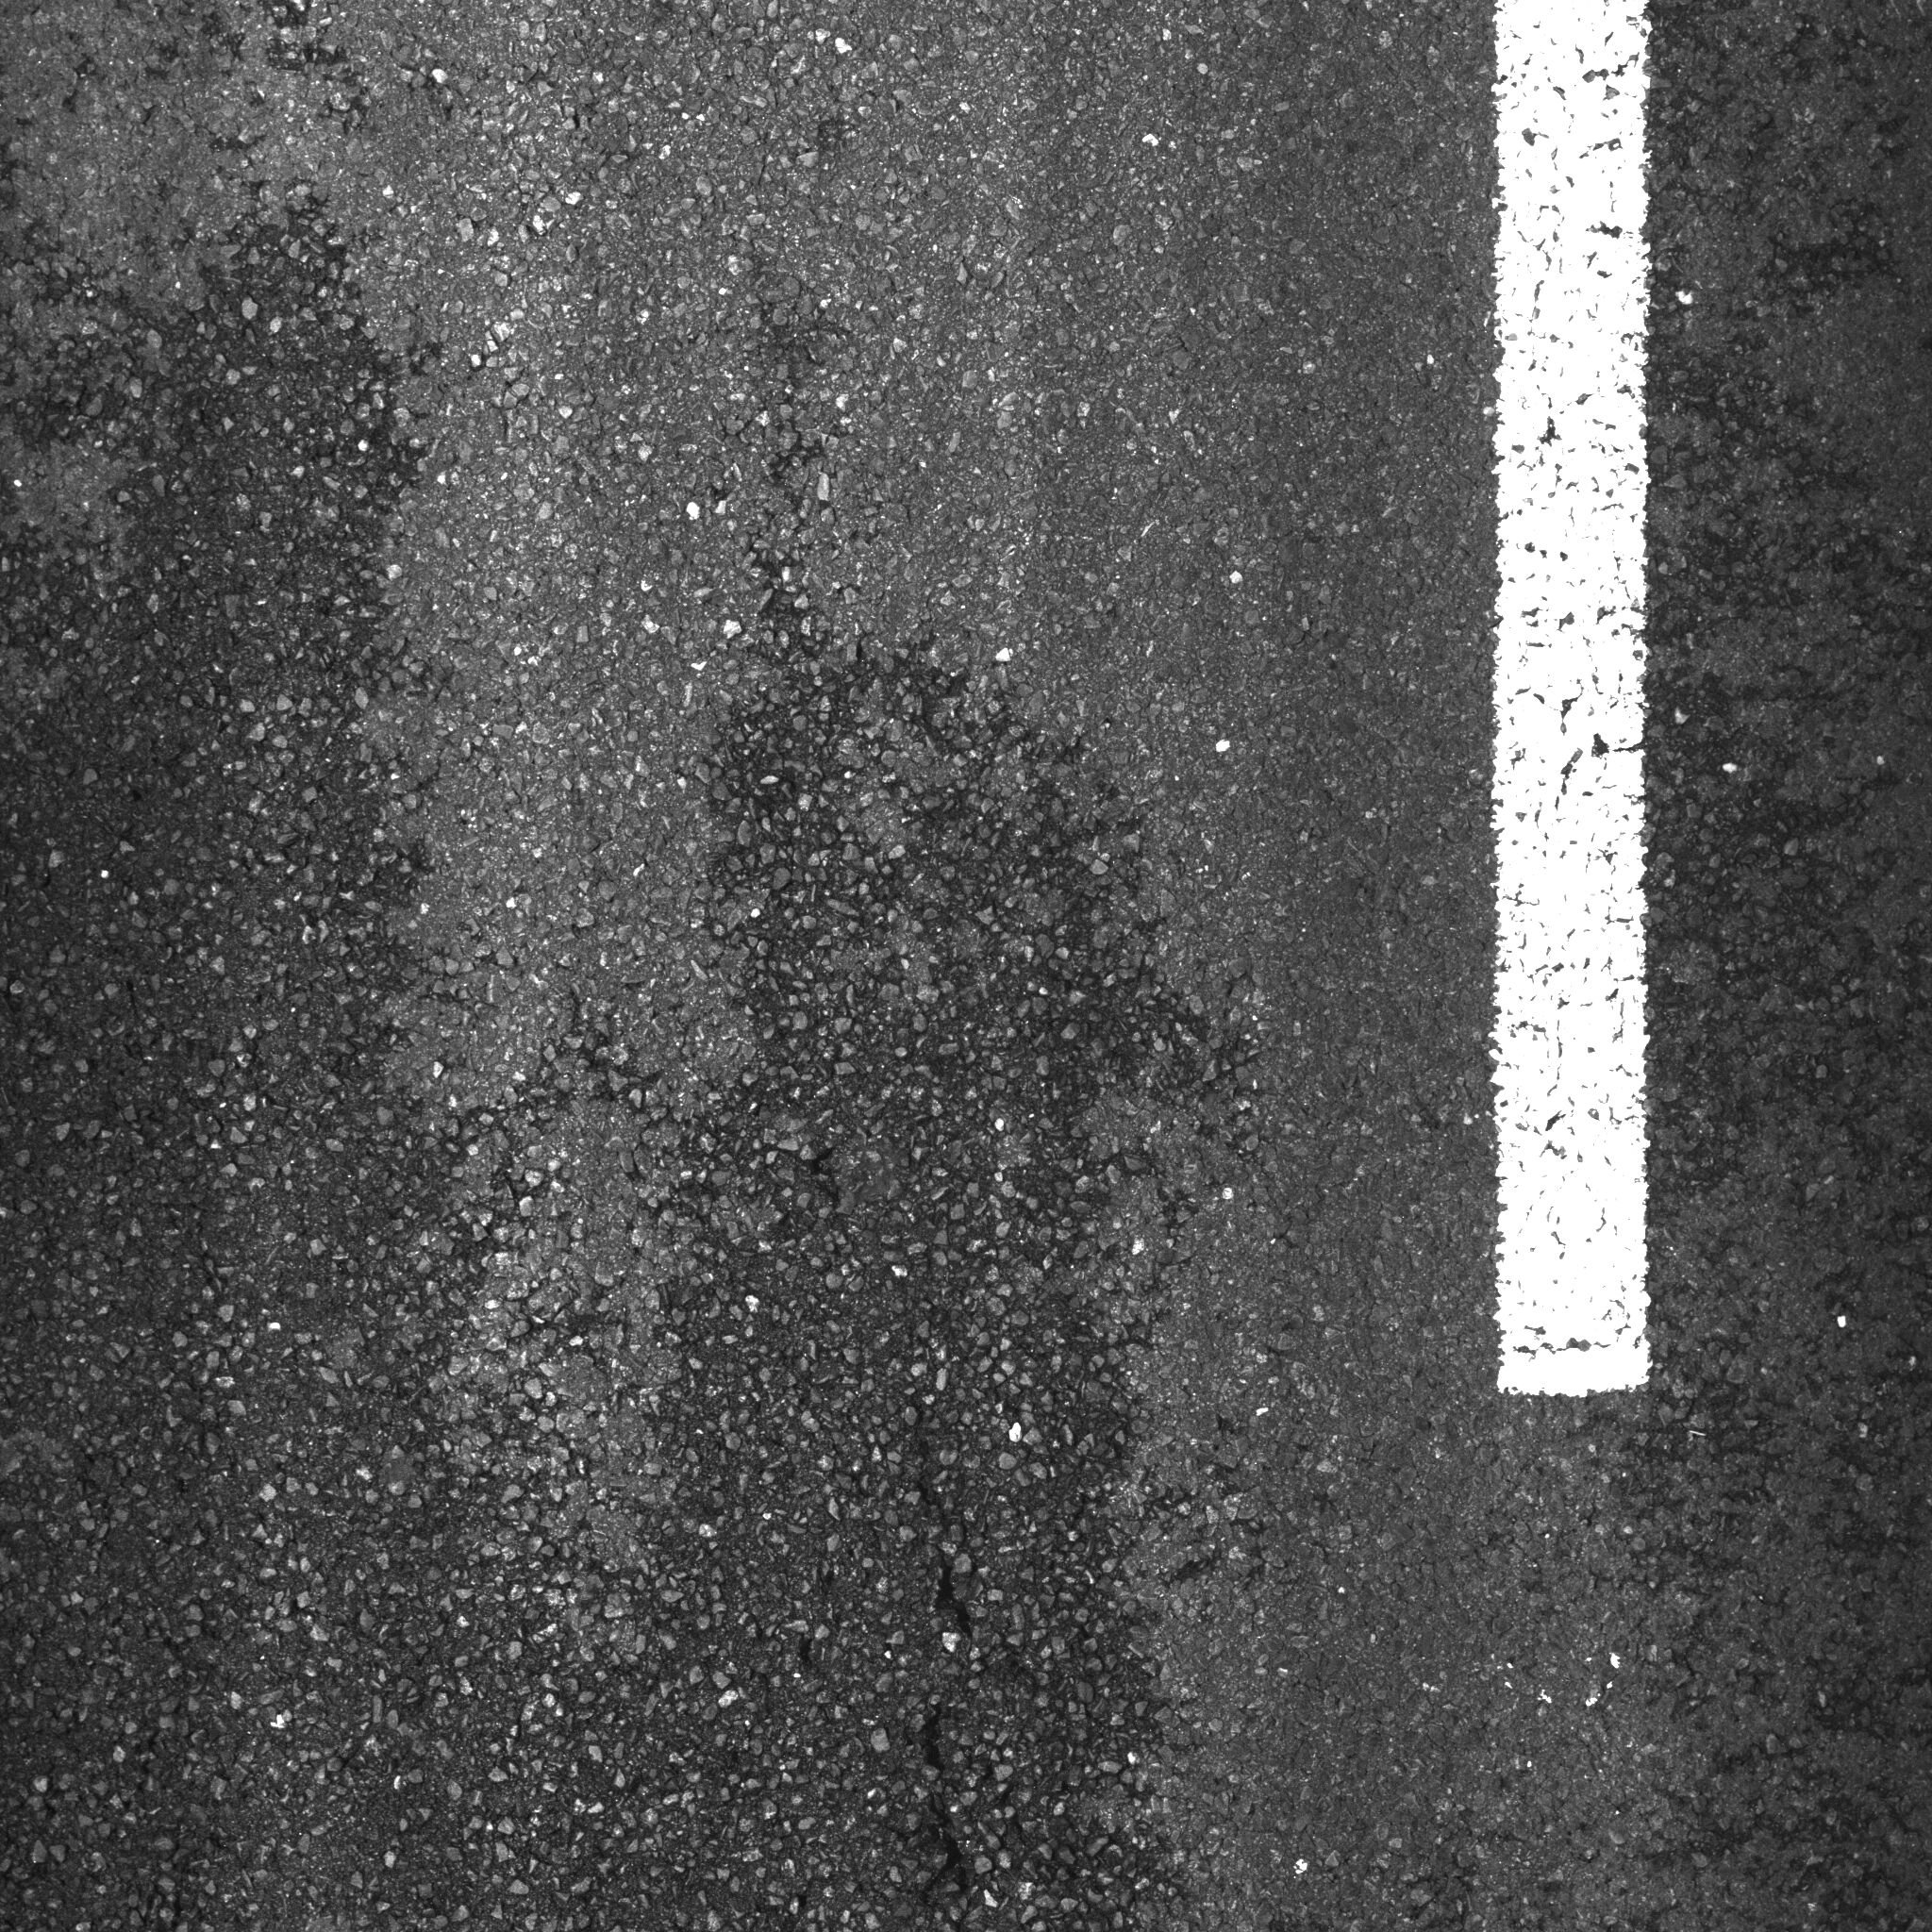longitudinal: (872, 1283, 1019, 1911)
